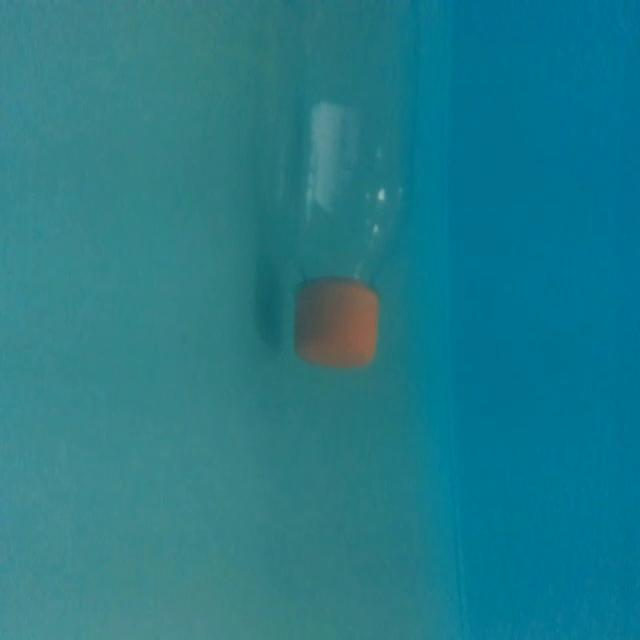plastic bottle: (264, 0, 421, 371)
